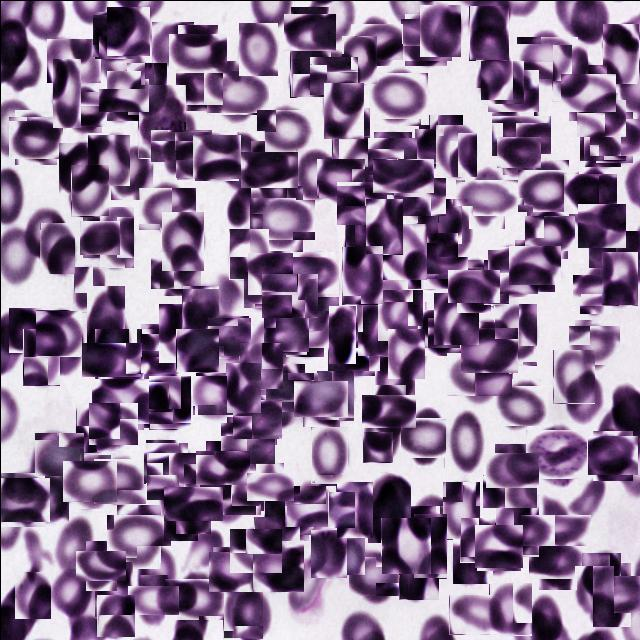red blood cell: (452, 346, 506, 401), (254, 191, 308, 245), (111, 508, 165, 562), (149, 449, 203, 503), (371, 68, 424, 122), (210, 65, 264, 118), (380, 517, 430, 574), (158, 303, 206, 362), (494, 494, 538, 557), (521, 164, 573, 216), (520, 32, 572, 84), (169, 573, 221, 625), (94, 374, 146, 426), (378, 223, 426, 279), (218, 130, 264, 188), (493, 302, 536, 364), (252, 539, 303, 591), (444, 409, 484, 474), (586, 568, 636, 620), (530, 504, 580, 556), (464, 324, 514, 376), (160, 211, 203, 271), (560, 367, 604, 425), (400, 411, 450, 462), (264, 269, 314, 320), (289, 35, 330, 97), (86, 285, 124, 351), (495, 110, 545, 160), (142, 182, 192, 232), (260, 106, 310, 156), (205, 470, 255, 520), (172, 28, 222, 78), (461, 172, 511, 221), (253, 516, 299, 569), (98, 35, 144, 88), (94, 456, 143, 505), (10, 112, 60, 160), (448, 594, 508, 634), (230, 526, 280, 574), (376, 289, 422, 341), (341, 246, 382, 304), (46, 38, 100, 82), (24, 205, 67, 260), (433, 292, 478, 344), (110, 144, 152, 199), (534, 536, 582, 584), (34, 431, 82, 479), (488, 66, 536, 114), (223, 418, 271, 466), (65, 457, 113, 505), (87, 334, 135, 382), (378, 151, 426, 199), (574, 565, 613, 624), (374, 349, 414, 406), (331, 107, 369, 167), (323, 81, 363, 138), (488, 582, 531, 635), (148, 375, 190, 429), (552, 349, 594, 403), (329, 325, 377, 372), (244, 145, 292, 192), (192, 132, 240, 179), (0, 475, 46, 524), (434, 124, 476, 177), (412, 513, 446, 578), (402, 15, 449, 62), (169, 480, 216, 527), (496, 382, 544, 428), (488, 248, 536, 294), (52, 514, 92, 569), (468, 5, 508, 60), (98, 206, 133, 268), (441, 481, 479, 538), (157, 121, 203, 168), (564, 68, 610, 115), (338, 180, 384, 227), (363, 472, 410, 518), (578, 202, 625, 248), (222, 584, 262, 638), (602, 23, 638, 83), (49, 569, 91, 620), (87, 134, 129, 185), (419, 4, 460, 56), (364, 198, 402, 254), (126, 62, 166, 115), (566, 170, 612, 216), (476, 523, 522, 569), (416, 237, 462, 283), (281, 306, 327, 352), (34, 310, 80, 356), (297, 376, 343, 422), (89, 400, 135, 446), (287, 482, 333, 528), (331, 486, 377, 532), (511, 242, 557, 288), (310, 426, 347, 483), (22, 328, 59, 385), (106, 6, 149, 55), (238, 20, 277, 74), (94, 561, 132, 616), (140, 356, 180, 408), (421, 305, 466, 351), (396, 173, 442, 218), (238, 342, 282, 389), (75, 403, 117, 452), (362, 408, 400, 462), (551, 44, 587, 101), (295, 148, 335, 199), (58, 142, 98, 193), (228, 228, 268, 279), (416, 198, 461, 243), (591, 226, 636, 271), (350, 554, 396, 598), (464, 258, 508, 304), (266, 492, 310, 538), (590, 432, 634, 478), (92, 12, 138, 56), (290, 254, 336, 298), (210, 548, 254, 594), (286, 10, 332, 54), (363, 147, 405, 195), (474, 29, 508, 88), (398, 549, 438, 599), (600, 251, 637, 305), (354, 18, 398, 63), (572, 322, 616, 367), (490, 447, 534, 492), (234, 396, 278, 441), (200, 445, 245, 489), (70, 164, 108, 216), (151, 21, 193, 68), (452, 534, 492, 583), (344, 200, 373, 267), (314, 474, 352, 525), (153, 248, 197, 292), (408, 500, 452, 544), (138, 326, 182, 370), (487, 469, 531, 513), (366, 389, 410, 433), (318, 156, 362, 200), (592, 114, 636, 158), (578, 95, 622, 139), (247, 251, 291, 295), (370, 134, 414, 178), (479, 60, 523, 104), (52, 58, 80, 127), (45, 324, 82, 376), (37, 222, 74, 274), (300, 273, 338, 323), (136, 545, 174, 595), (367, 492, 405, 542), (354, 478, 392, 528), (356, 304, 392, 356), (316, 370, 353, 420), (387, 328, 424, 378), (185, 461, 228, 504), (175, 328, 218, 371), (452, 264, 494, 308), (312, 54, 355, 96), (437, 205, 472, 256), (225, 362, 260, 413), (194, 374, 236, 416), (178, 66, 220, 108), (528, 212, 570, 254), (340, 35, 376, 84), (144, 440, 186, 482), (265, 310, 307, 352), (102, 74, 144, 116), (30, 475, 68, 521), (181, 285, 218, 332), (310, 529, 346, 577), (580, 552, 620, 595), (163, 490, 197, 540), (14, 571, 50, 618), (63, 89, 104, 130), (208, 316, 249, 357), (582, 122, 622, 164), (132, 580, 174, 620), (128, 384, 170, 424), (95, 594, 134, 637), (408, 242, 443, 288), (416, 126, 456, 166), (80, 545, 120, 585), (459, 517, 494, 562), (328, 305, 355, 363), (428, 114, 462, 160), (576, 270, 615, 310), (175, 139, 214, 178), (8, 307, 41, 352), (270, 368, 308, 407), (243, 270, 281, 308), (498, 132, 536, 170), (250, 467, 288, 505), (73, 266, 104, 312), (80, 218, 118, 255), (328, 536, 364, 574)
trophozoite: (137, 84, 185, 158), (528, 426, 583, 482)
